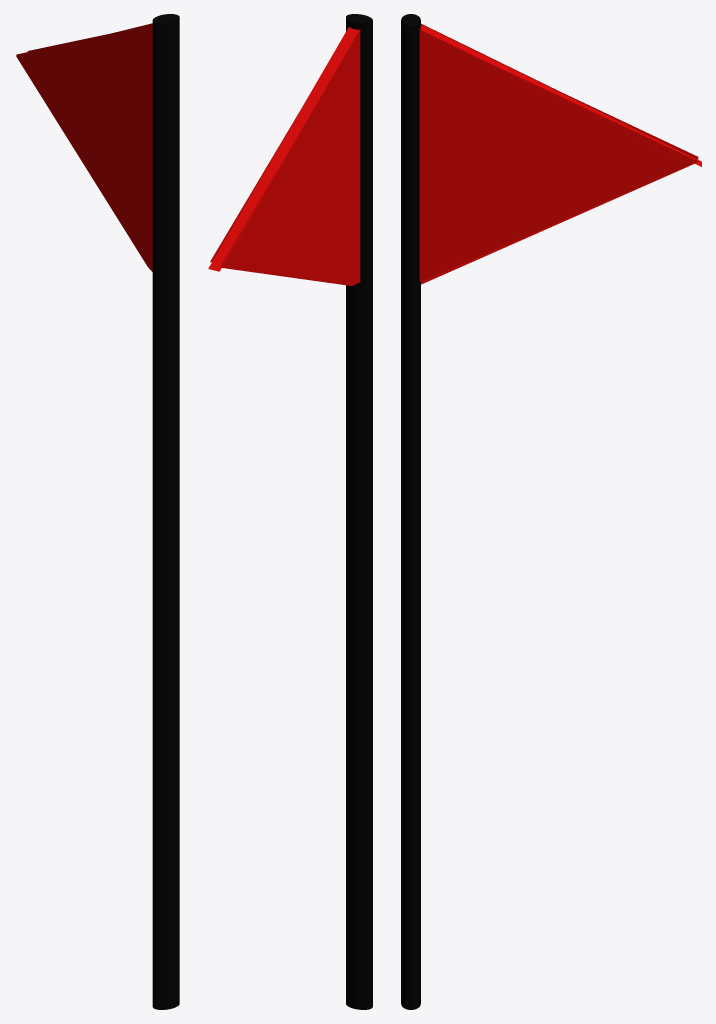
The model's file is flag.fbx.
3 views of the same model, side by side, from view 1: azimuth 30°, elevation 25°; view 2: azimuth 150°, elevation 25°; view 3: azimuth 270°, elevation 25° (orthographic).
Visible parts, largest first — view 1: Cylinder, Plane; view 2: Cylinder, Plane, Plane.001; view 3: Plane, Cylinder, Plane.001.
Boxes of the visible parts, x1=… form: Cylinder: x1=152, y1=14, x2=179, y2=1009; Plane: x1=16, y1=23, x2=152, y2=271; Cylinder: x1=346, y1=14, x2=372, y2=1009; Plane: x1=210, y1=29, x2=360, y2=286; Plane.001: x1=208, y1=27, x2=359, y2=271; Plane: x1=419, y1=23, x2=698, y2=284; Cylinder: x1=401, y1=14, x2=420, y2=1009; Plane.001: x1=420, y1=24, x2=701, y2=166.
Bounding box in the file's own units: 20.63 × 775 × 215.
